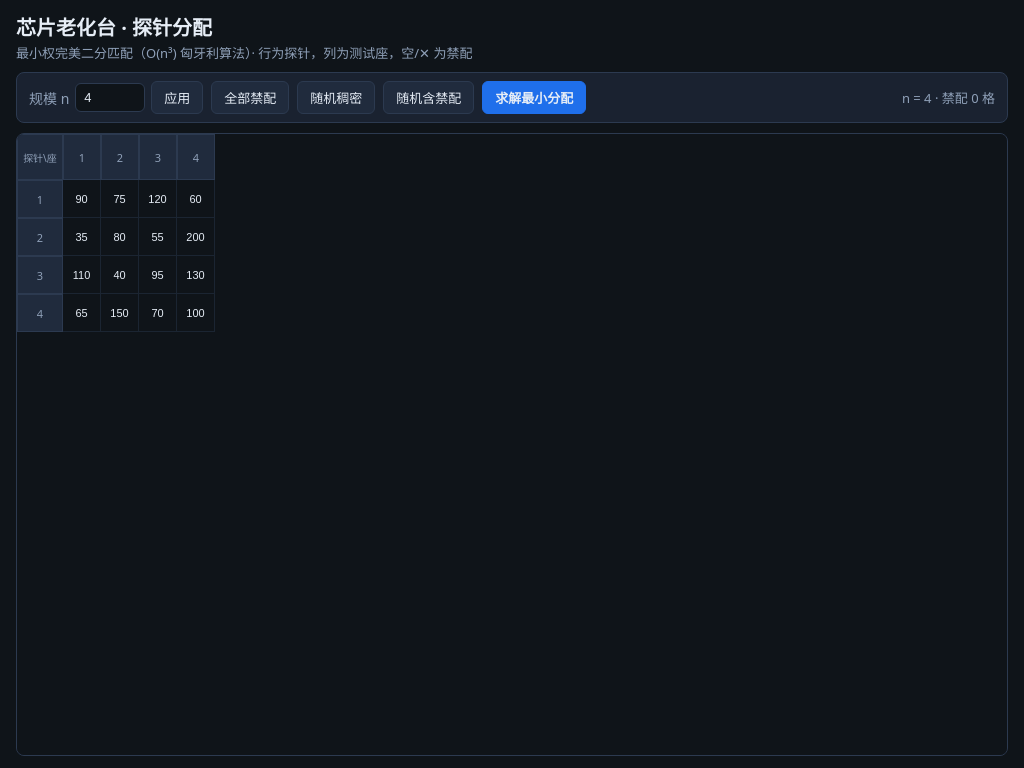
Test case: App 页面：畸形成功响应一律拒绝（稳定协议错误） › assignment 命中禁配格
The image size is (1024, 768).
Step 1. Click the button with class "cell-value" showing "60" → click(196, 198), box [177,180,214,217]
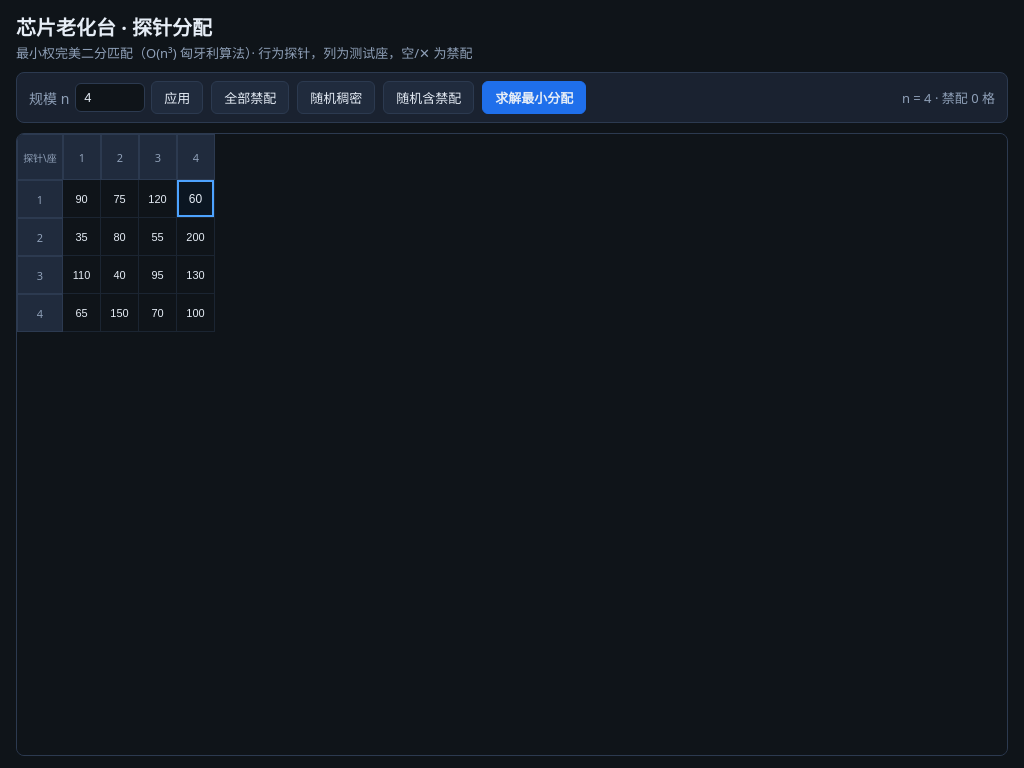
Step 2. Replace the text in the field with class "cell-input" with "x" → (196, 198), box [177,180,214,217]
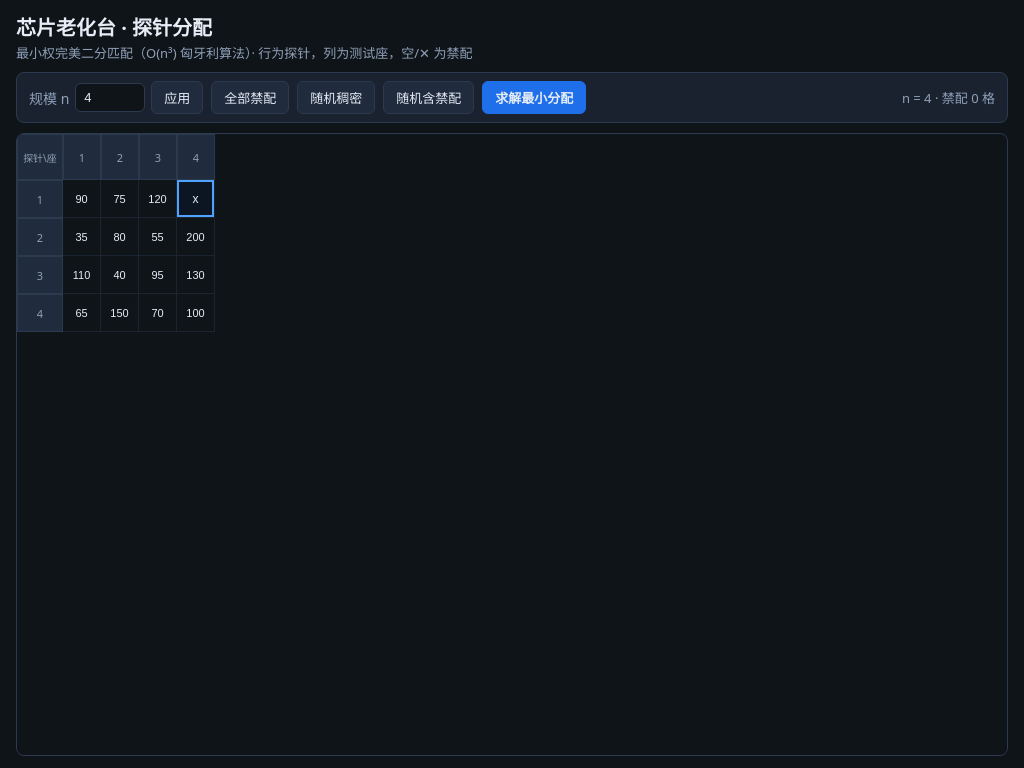
Step 3. Press Enter in the field with class "cell-input", box [177,180,214,217]
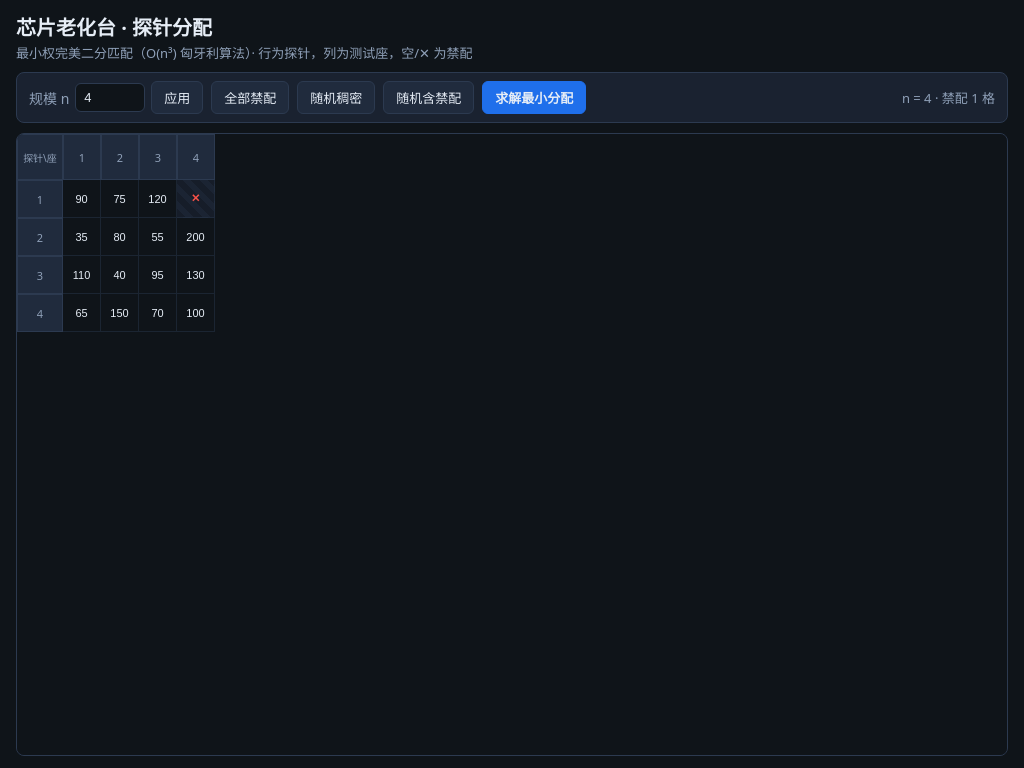
Step 4. Click the button "求解最小分配" → click(534, 98), box [482,81,586,114]
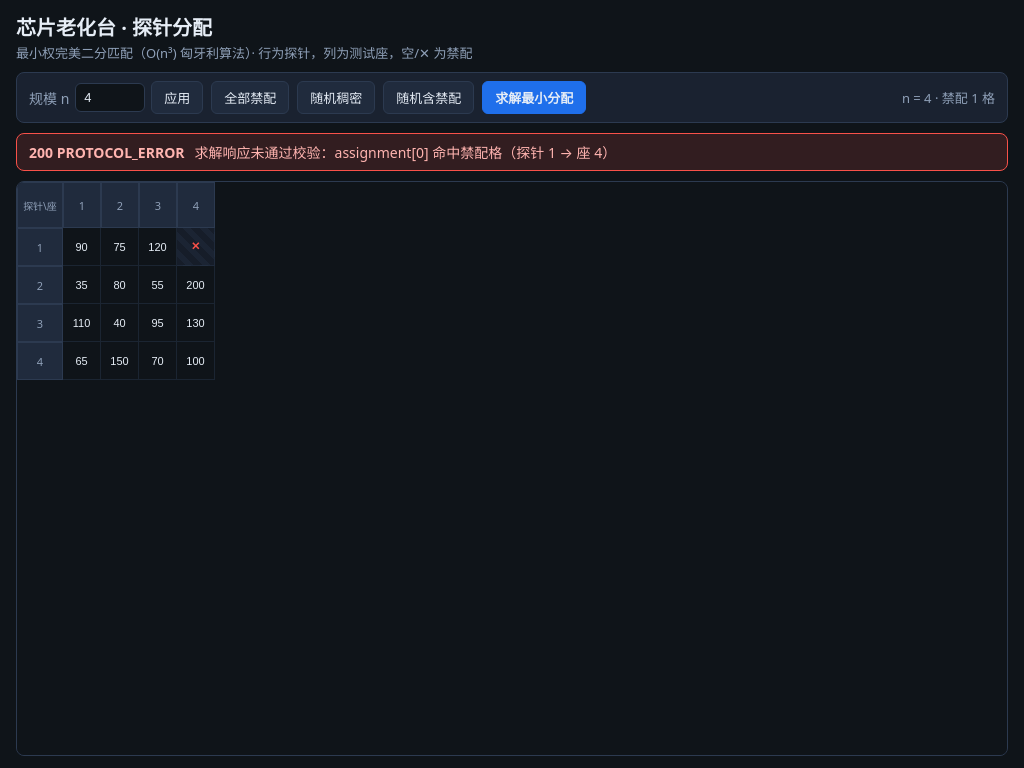
Now the text "200 PROTOCOL_ERROR" is shown, box [29,142,184,162]
Now the text "求解响应未通过校验：assignment[0] 命中禁配格（探针 1 → 座 4）" is shown, box [194,142,616,162]
